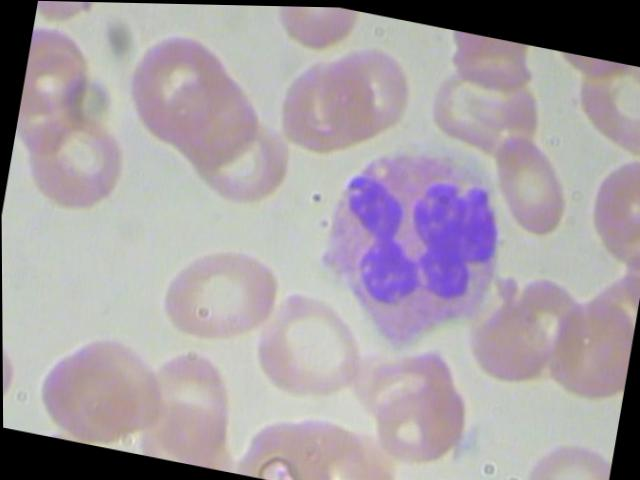Red Blood Cells: (146, 225, 292, 360), (251, 273, 380, 418), (110, 19, 238, 144), (56, 323, 178, 441), (14, 95, 129, 218), (365, 367, 489, 472), (317, 33, 423, 142), (349, 332, 464, 432), (264, 47, 370, 152), (483, 128, 578, 238), (501, 421, 614, 479)
White Blood Cells: (290, 120, 530, 379)
